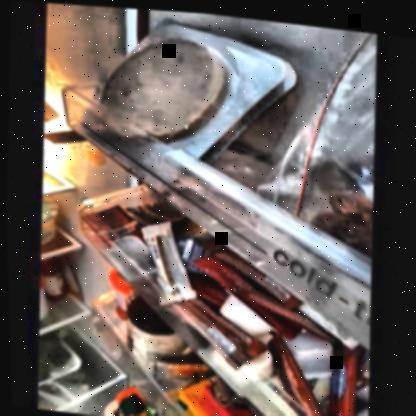salami: (93, 30, 234, 148)
